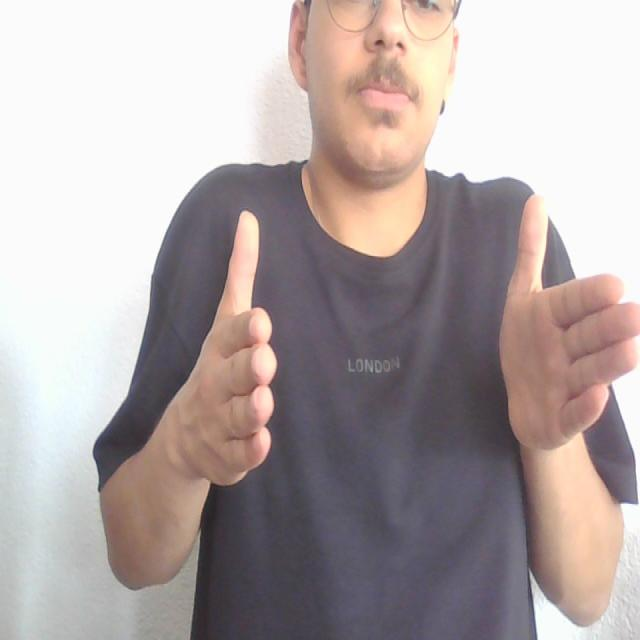Nasil: (168, 189, 640, 490)
